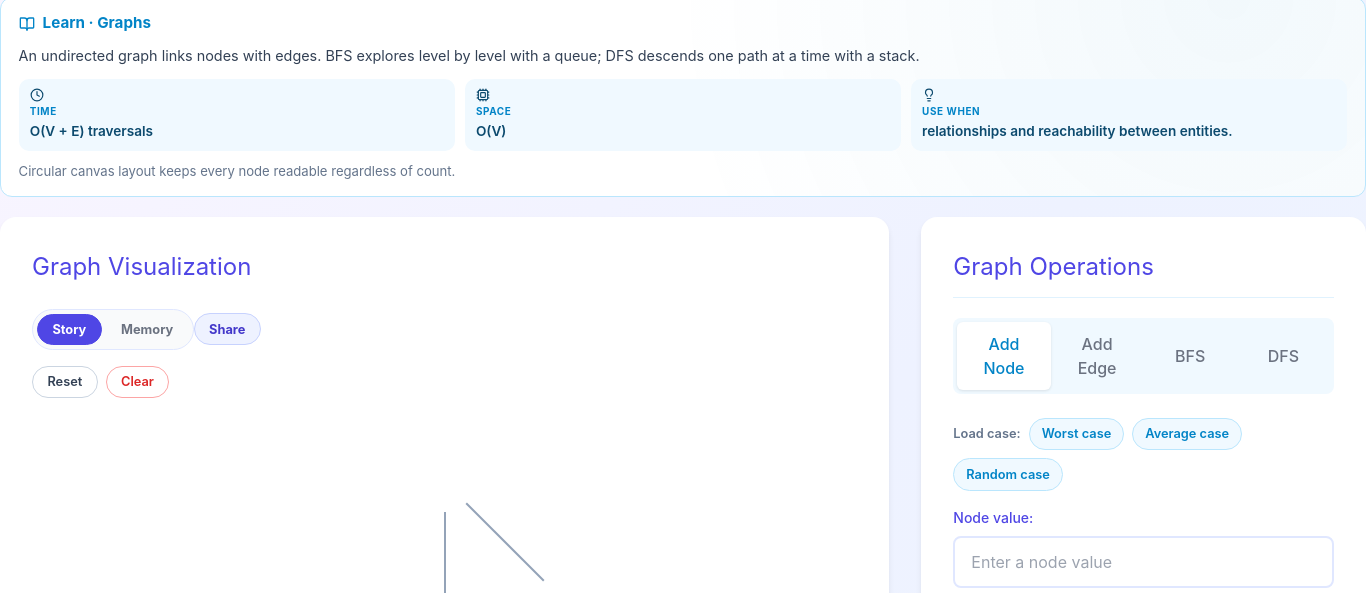
Test case: graph operations › adding an edge connects two existing nodes and records the run
The width and height of the screenshot is (1366, 593).
Click the button "Add Edge" at [1097, 356], box [1050,322,1144,390]
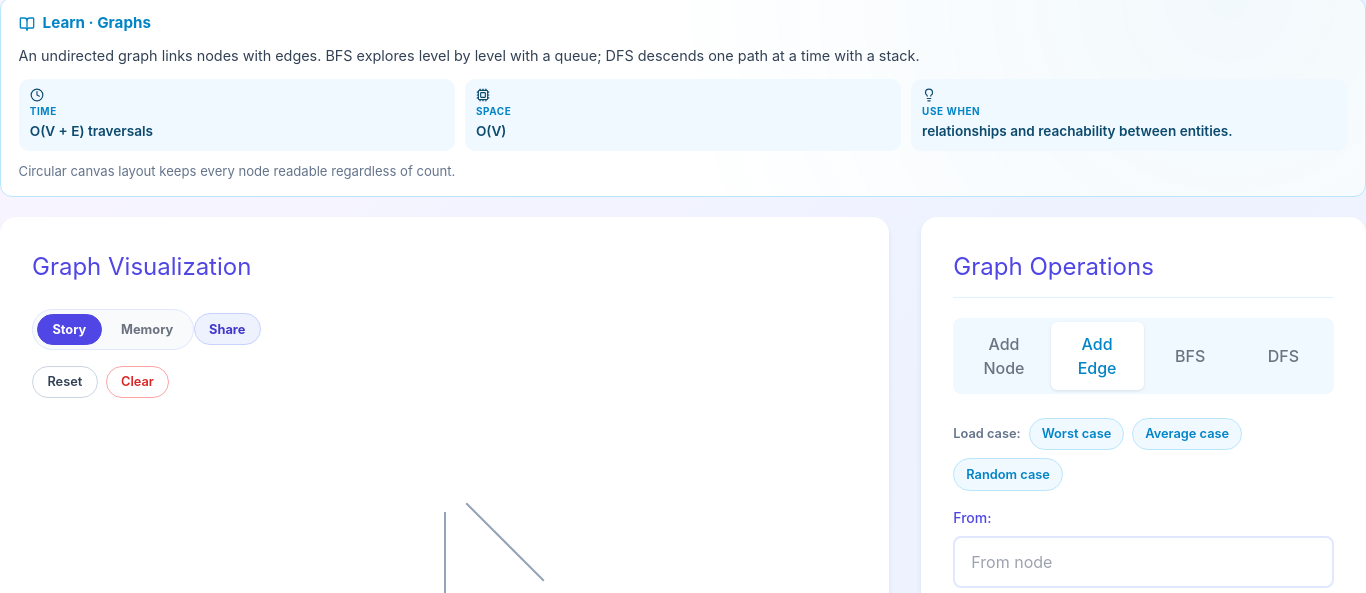
Type "3" into the number field with placeholder "From node" at [1144, 562], box [953,536,1334,588]
(page scrolled)
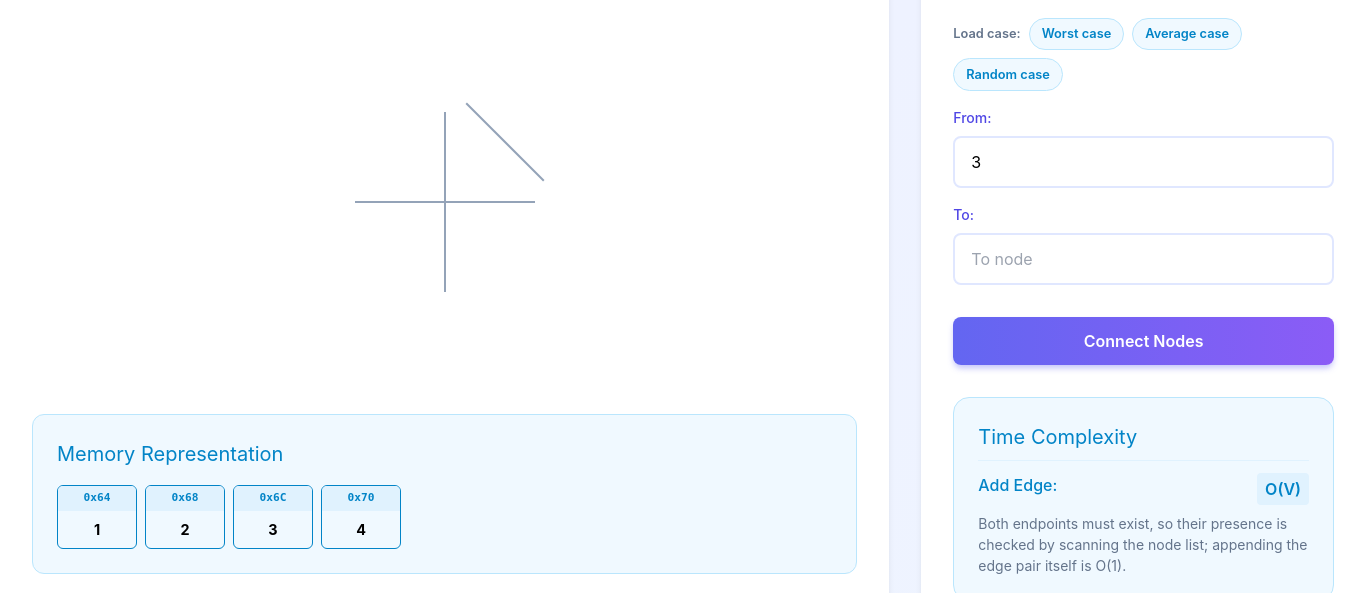
Type "4" into the number field with placeholder "To node" at [1144, 259], box [953,233,1334,285]
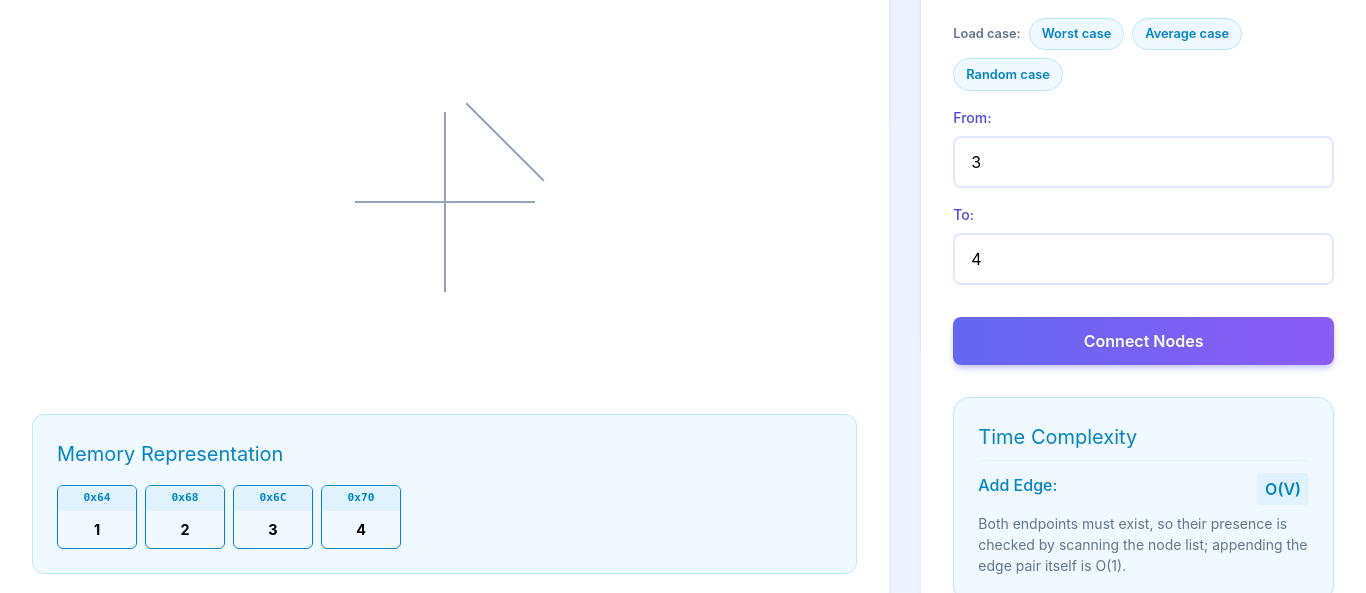
Click the button "Connect Nodes" at [1144, 341], box [953,317,1334,365]
Wait 30000 ms
(page scrolled)
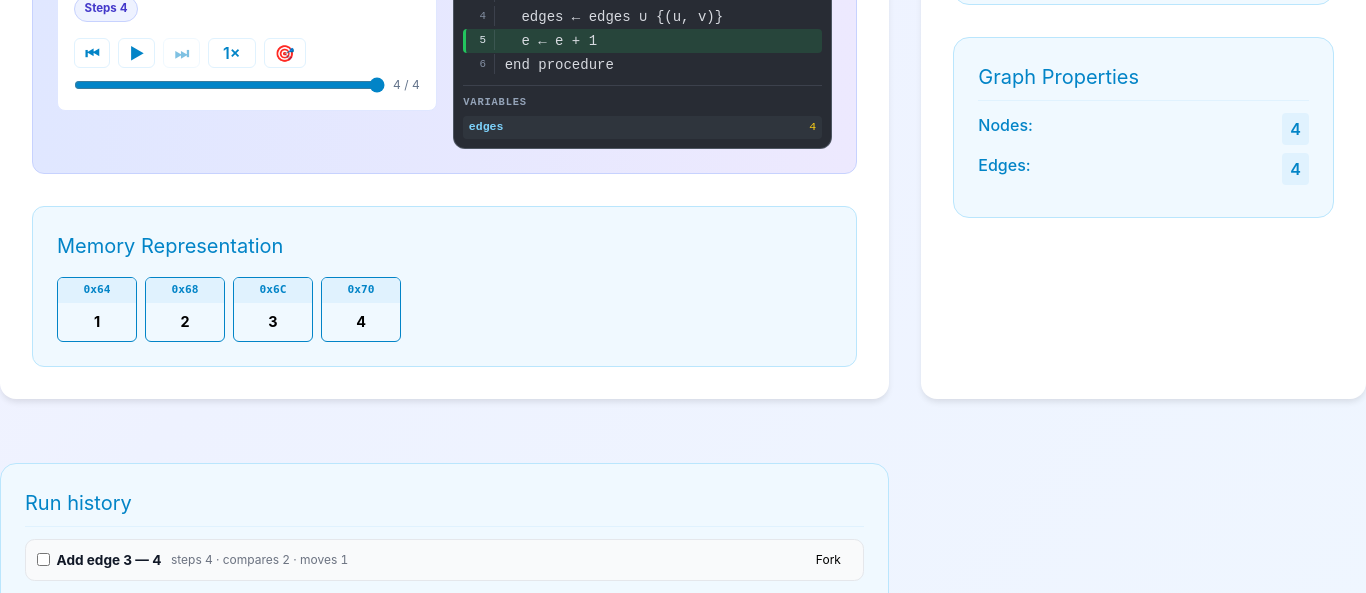
Expected: the text "Add edge 3 — 4" is shown, [57,550,161,570]
